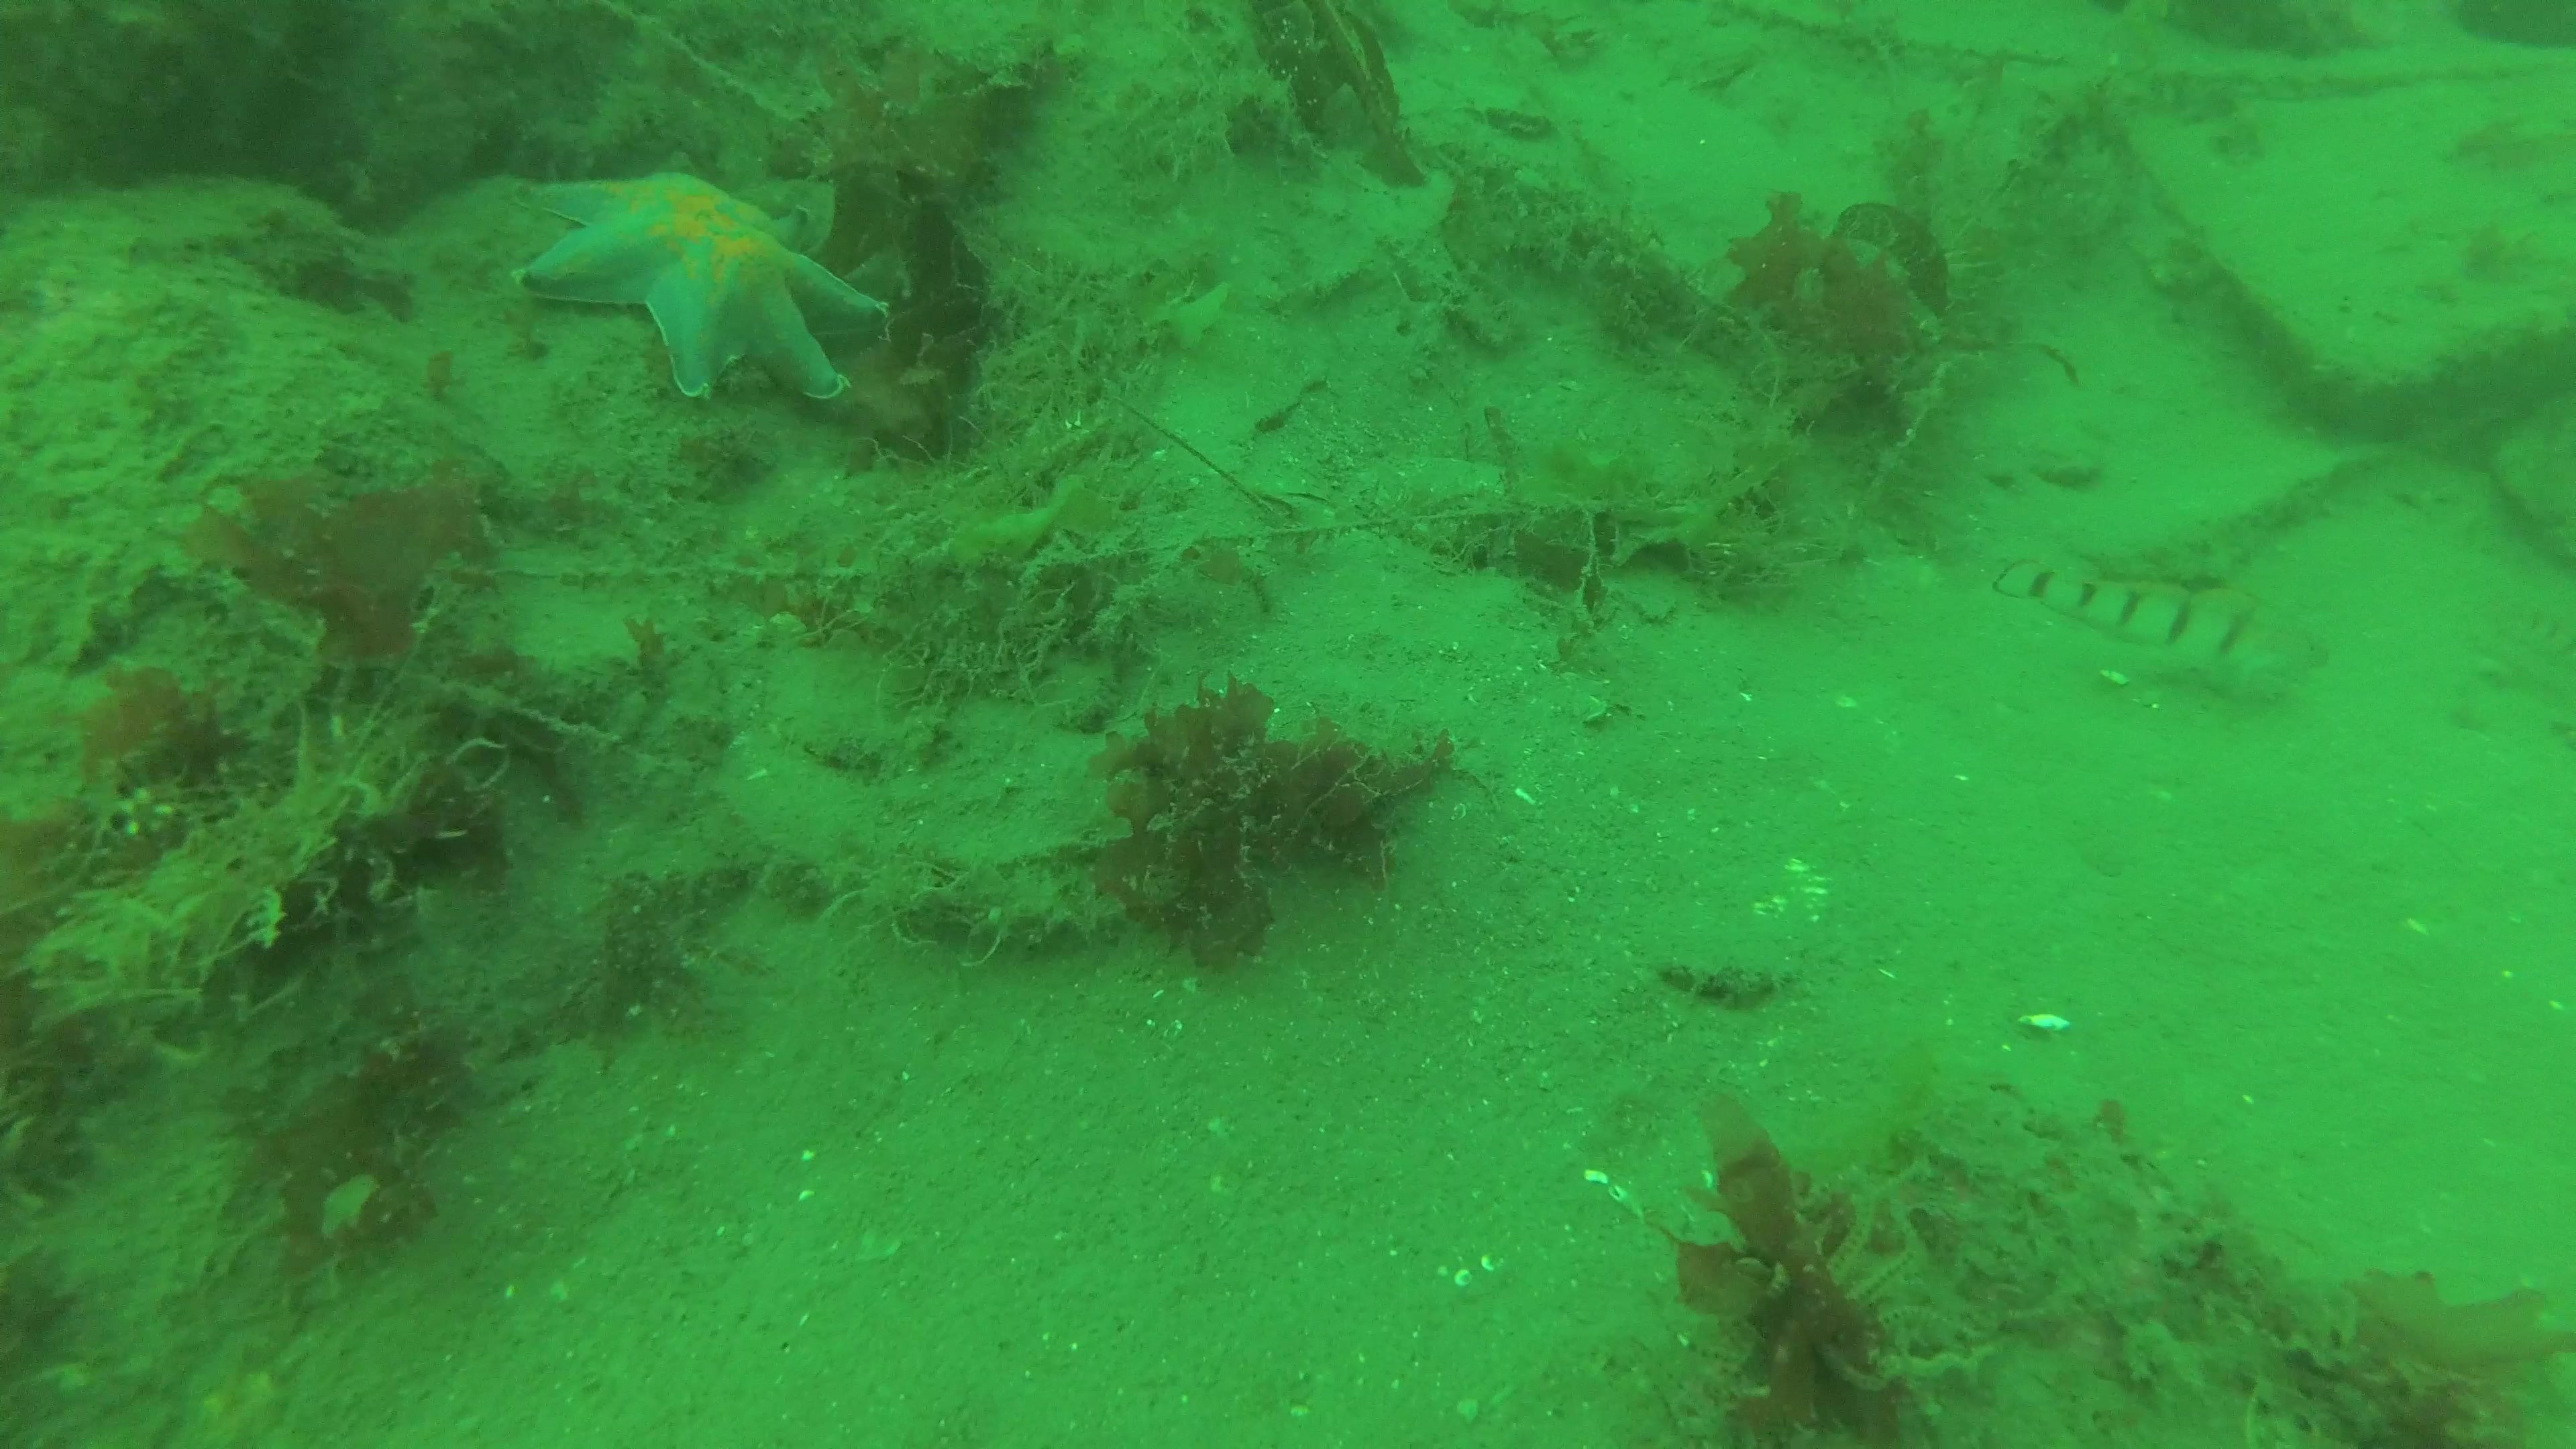starfish: (506, 168, 895, 407)
